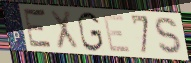7: (130, 14, 151, 56)
E: (22, 6, 55, 52), (101, 14, 132, 54)
G: (76, 10, 105, 53)
S: (153, 16, 186, 57)
X: (48, 9, 80, 53)
